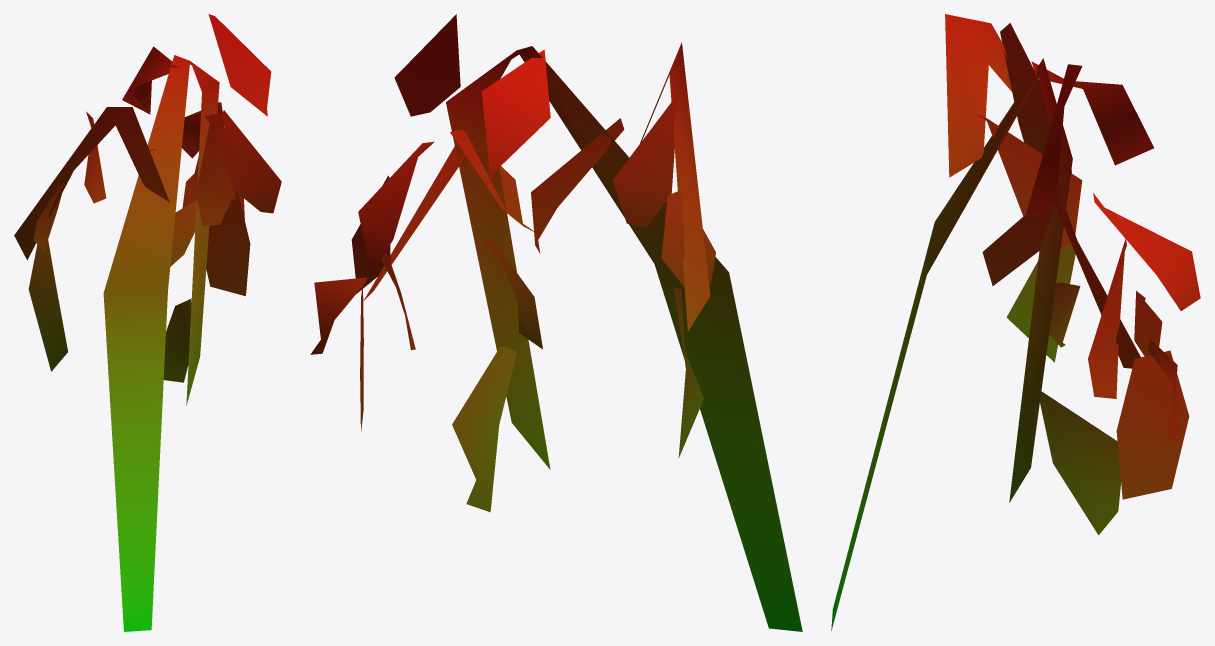
File: Var6_LOD2.fbx
The picture shows the model from 3 angles, left to right: view 1: azimuth 30°, elevation 25°; view 2: azimuth 150°, elevation 25°; view 3: azimuth 270°, elevation 25°; orthographic projection. The views are drawn at different scales.
Parts seen in each view (by area): view 1: _3f22_Var6_LOD2; view 2: _3f22_Var6_LOD2; view 3: _3f22_Var6_LOD2.
Boxes of the visible parts, x1=… form: _3f22_Var6_LOD2: x1=14, y1=14, x2=281, y2=631; _3f22_Var6_LOD2: x1=310, y1=14, x2=802, y2=631; _3f22_Var6_LOD2: x1=831, y1=14, x2=1200, y2=630.
Size of the model in its own units: 16.37 by 29.08 by 14.62.
